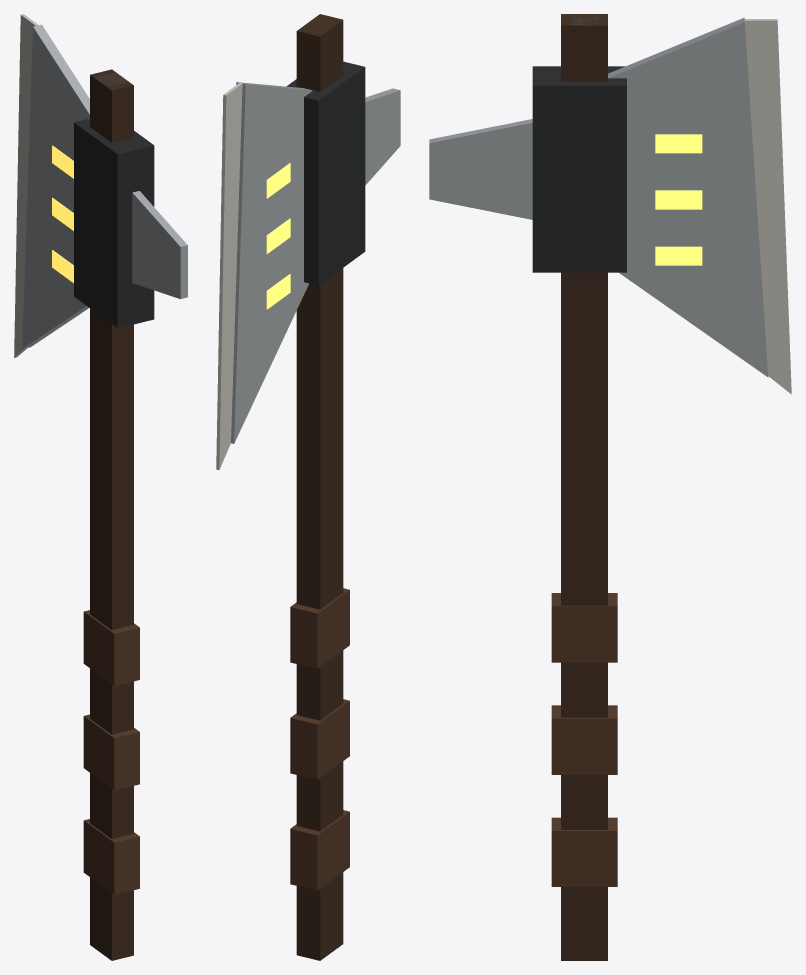
Rendered from SM_Wep_RunicAxe.glb.
3 renders of one model, left to right at view 1: azimuth 30°, elevation 25°; view 2: azimuth 150°, elevation 25°; view 3: azimuth 270°, elevation 25°, orthographic. The views are drawn at different scales.
Visible parts, largest first — view 1: SM_Wep_RunicAxe; view 2: SM_Wep_RunicAxe; view 3: SM_Wep_RunicAxe.
Boxes of the visible parts, <box> form: SM_Wep_RunicAxe: <box>14,14,187,960</box>; SM_Wep_RunicAxe: <box>216,14,400,960</box>; SM_Wep_RunicAxe: <box>429,14,791,960</box>.
Size of the model in its own units: 0.038 by 0.86 by 0.302.
Materials: 2 (1 with a texture image).
